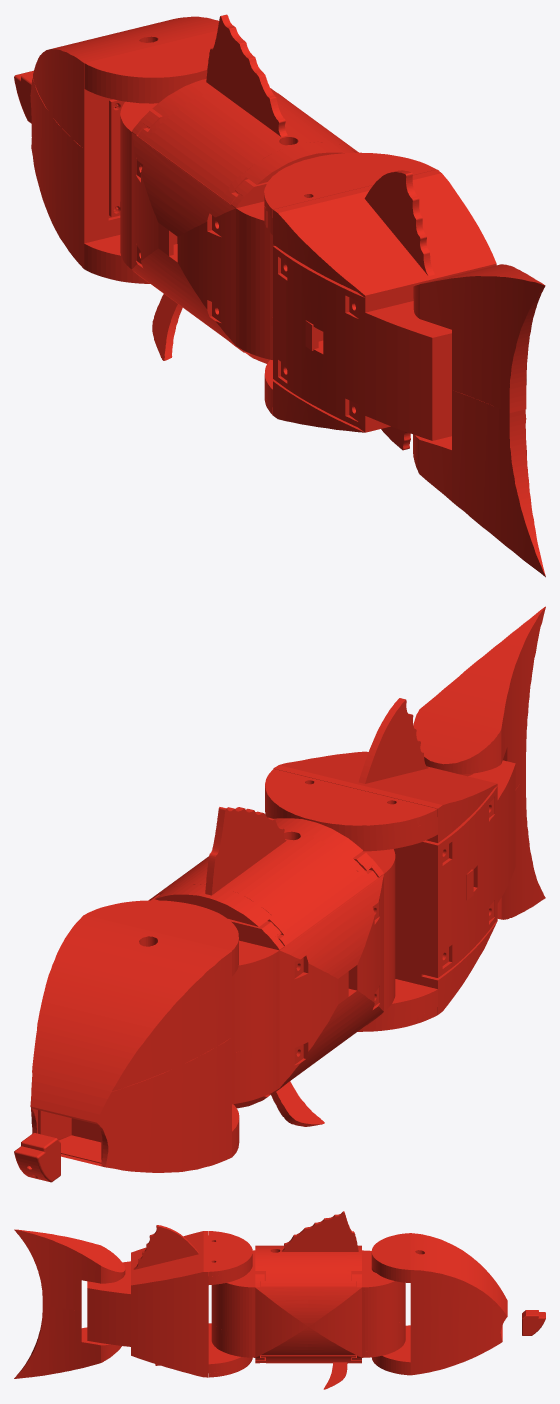
3 renders of one model, top to bottom at view 1: azimuth 30°, elevation 25°; view 2: azimuth 150°, elevation 25°; view 3: azimuth 270°, elevation 25°, orthographic. The views are drawn at different scales.
Visible parts, largest first — view 1: プロトタイプ２全体 v10; view 2: プロトタイプ２全体 v10; view 3: プロトタイプ２全体 v10.
Boxes of the visible parts, bbox=[...] form: プロトタイプ２全体 v10: bbox=[14, 14, 545, 577]; プロトタイプ２全体 v10: bbox=[14, 606, 545, 1182]; プロトタイプ２全体 v10: bbox=[14, 1211, 545, 1389].
Bounding box in the file's own units: 110 × 190 × 548.
